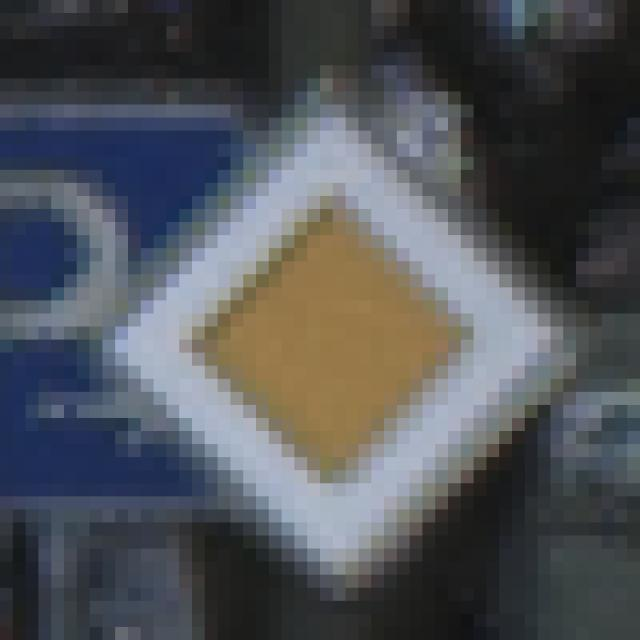Main Road: (78, 66, 577, 576)
